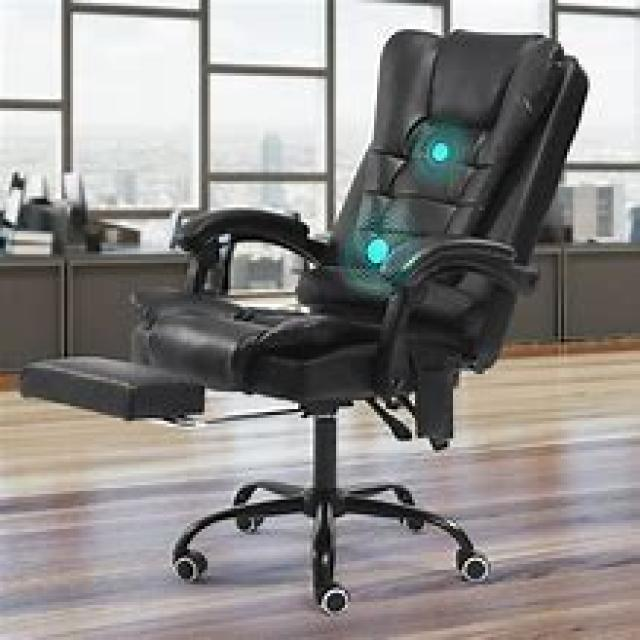chair: (18, 26, 588, 614)
